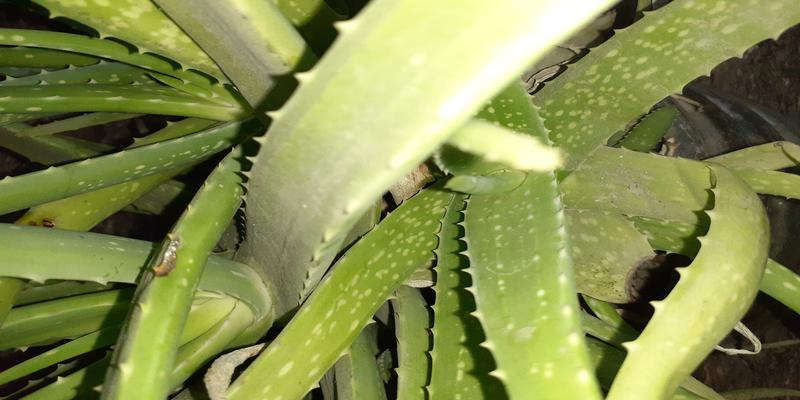Aloevera: (74, 34, 692, 383)
